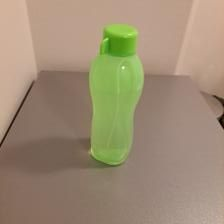bottle: (84, 23, 144, 166)
